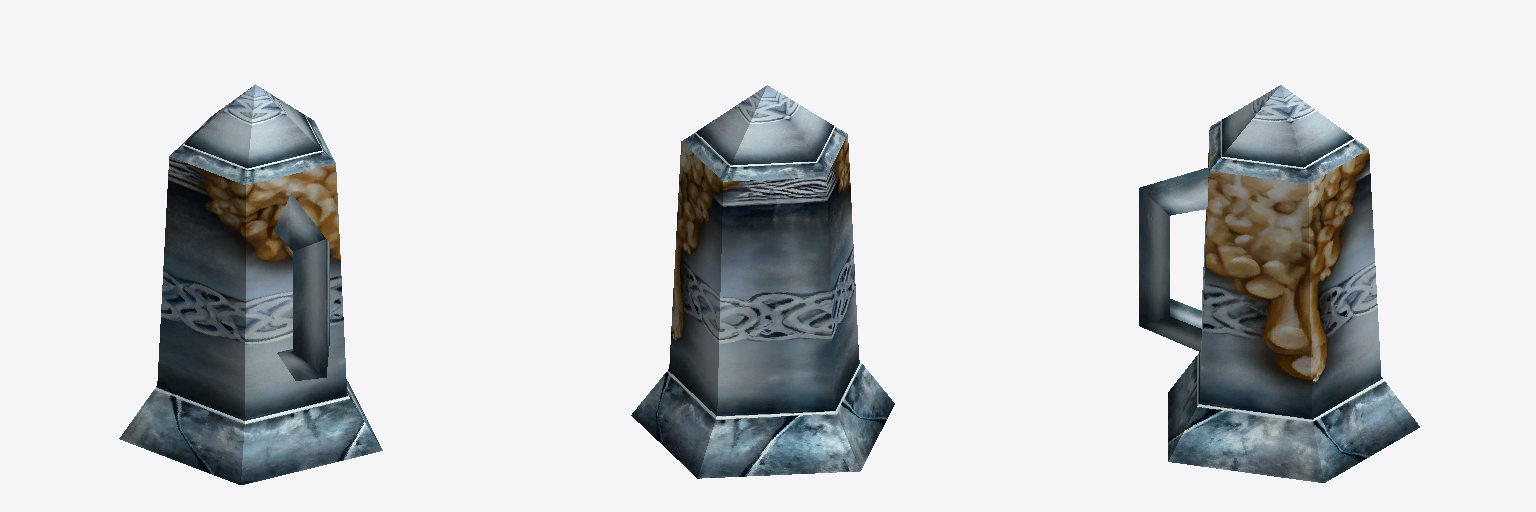
3 views of the same model, side by side, from view 1: azimuth 30°, elevation 25°; view 2: azimuth 150°, elevation 25°; view 3: azimuth 270°, elevation 25° (orthographic).
Visible parts, largest first — view 1: stein01; view 2: stein01; view 3: stein01.
Boxes of the visible parts, x1=… form: stein01: x1=119, y1=84, x2=382, y2=484; stein01: x1=631, y1=85, x2=894, y2=478; stein01: x1=1139, y1=85, x2=1419, y2=482.
Size of the model in its own units: 0.4163 by 0.5926 by 0.4409.
1 materials, 1 textured.